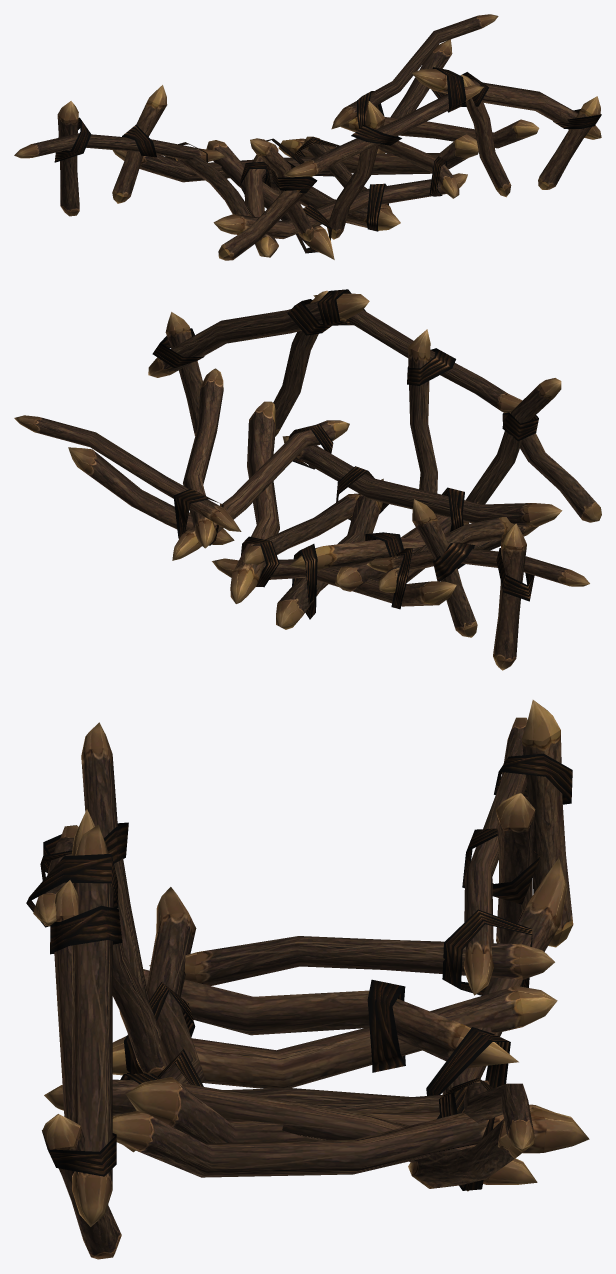
Rendered from lava_bridge_straight_02.fbx.
3 renders of one model, top to bottom at view 1: azimuth 30°, elevation 25°; view 2: azimuth 150°, elevation 25°; view 3: azimuth 270°, elevation 25°, orthographic. The views are drawn at different scales.
Visible parts, largest first — view 1: lava_tileset/wood_pole_mat_shadow; view 2: lava_tileset/wood_pole_mat_shadow; view 3: lava_tileset/wood_pole_mat_shadow.
Part boxes in pixels (x1,y1,x2,y2): lava_tileset/wood_pole_mat_shadow: (14, 14, 601, 260); lava_tileset/wood_pole_mat_shadow: (14, 289, 601, 670); lava_tileset/wood_pole_mat_shadow: (26, 700, 589, 1259).
Size of the model in its own units: 7.44 by 2.7 by 3.75.
